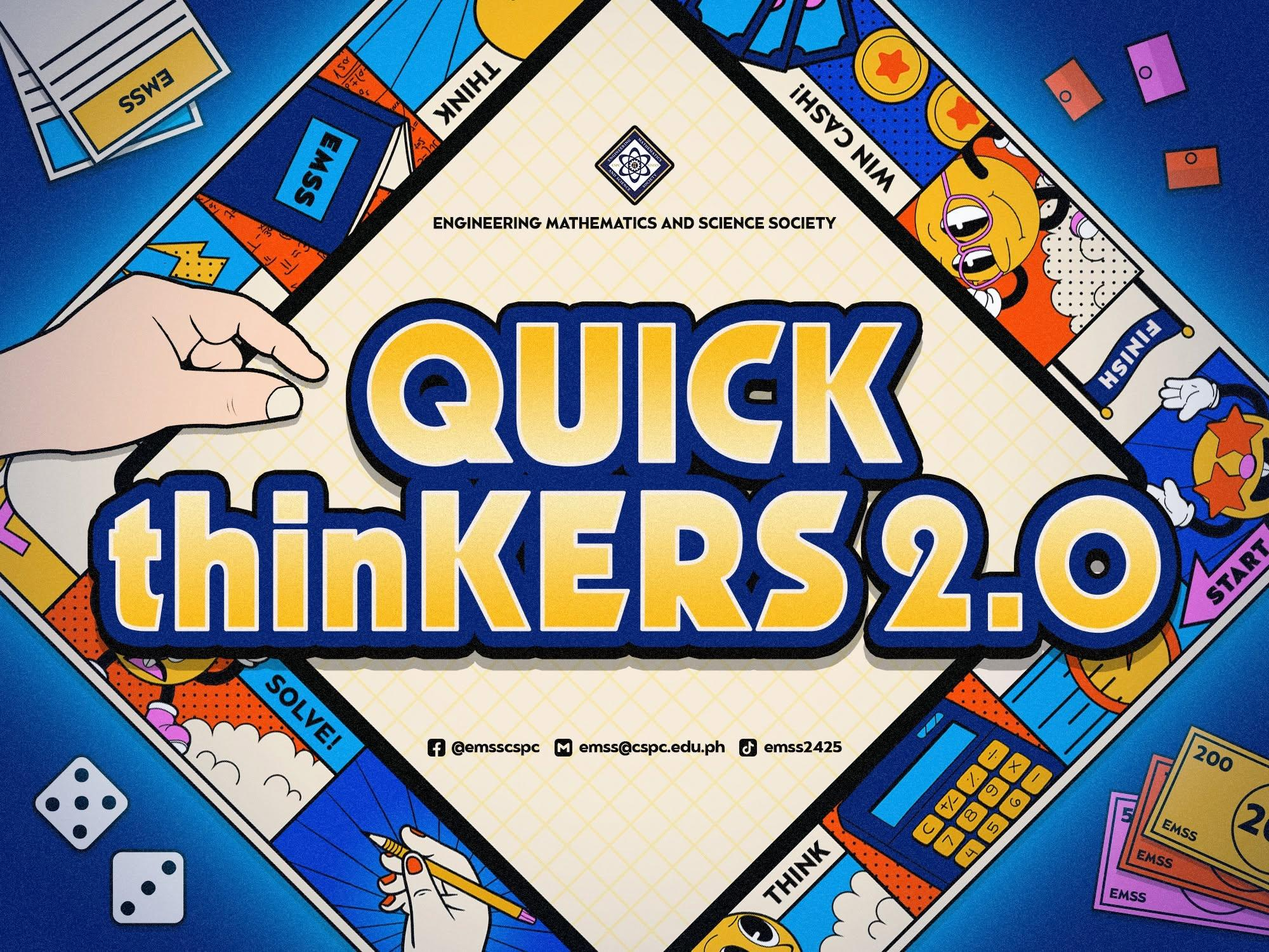embellishment: (0, 0, 1268, 951), (0, 273, 330, 459), (1084, 723, 1268, 942), (0, 0, 226, 159), (363, 825, 529, 951), (357, 824, 538, 927), (33, 754, 129, 851), (109, 849, 185, 927), (1123, 33, 1197, 103), (1036, 59, 1113, 126), (1160, 144, 1230, 193), (428, 730, 448, 763), (549, 736, 576, 760), (733, 736, 759, 758)
logo: (593, 124, 675, 207)
text: (81, 292, 1198, 669), (419, 206, 843, 235), (576, 739, 731, 758), (444, 735, 549, 761), (763, 741, 846, 760)
